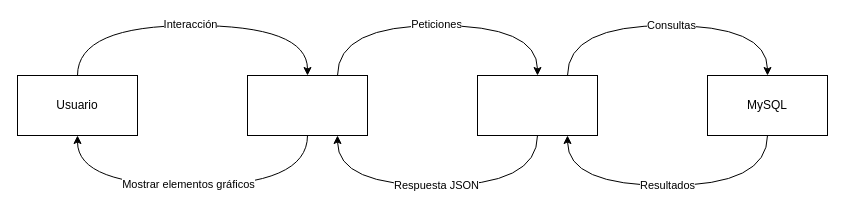
Some shapes in this 845 by 208 pixel diagram are drawn without their labels. Here are the shapes that lost their labels. From the top down, the box of each, then its label:
(246, 74, 368, 136): Frontend
(476, 74, 598, 136): Backend
